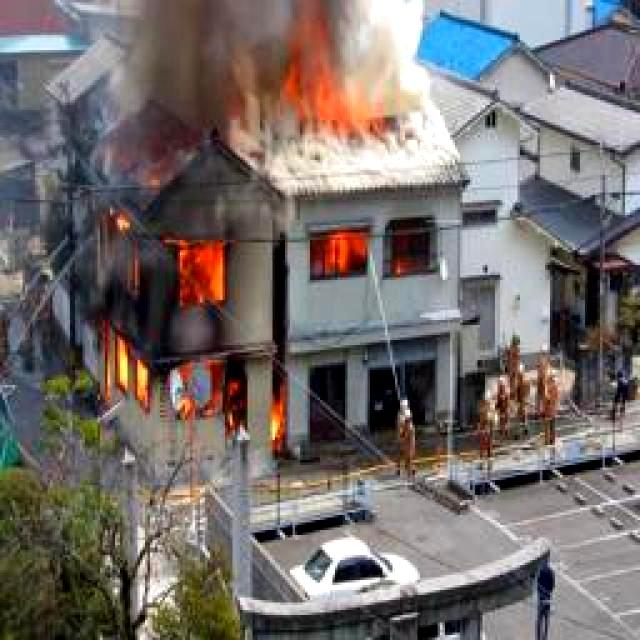helmet: (85, 208, 291, 444), (285, 33, 395, 133), (309, 230, 418, 277)
no_helmet: (133, 0, 460, 182)
